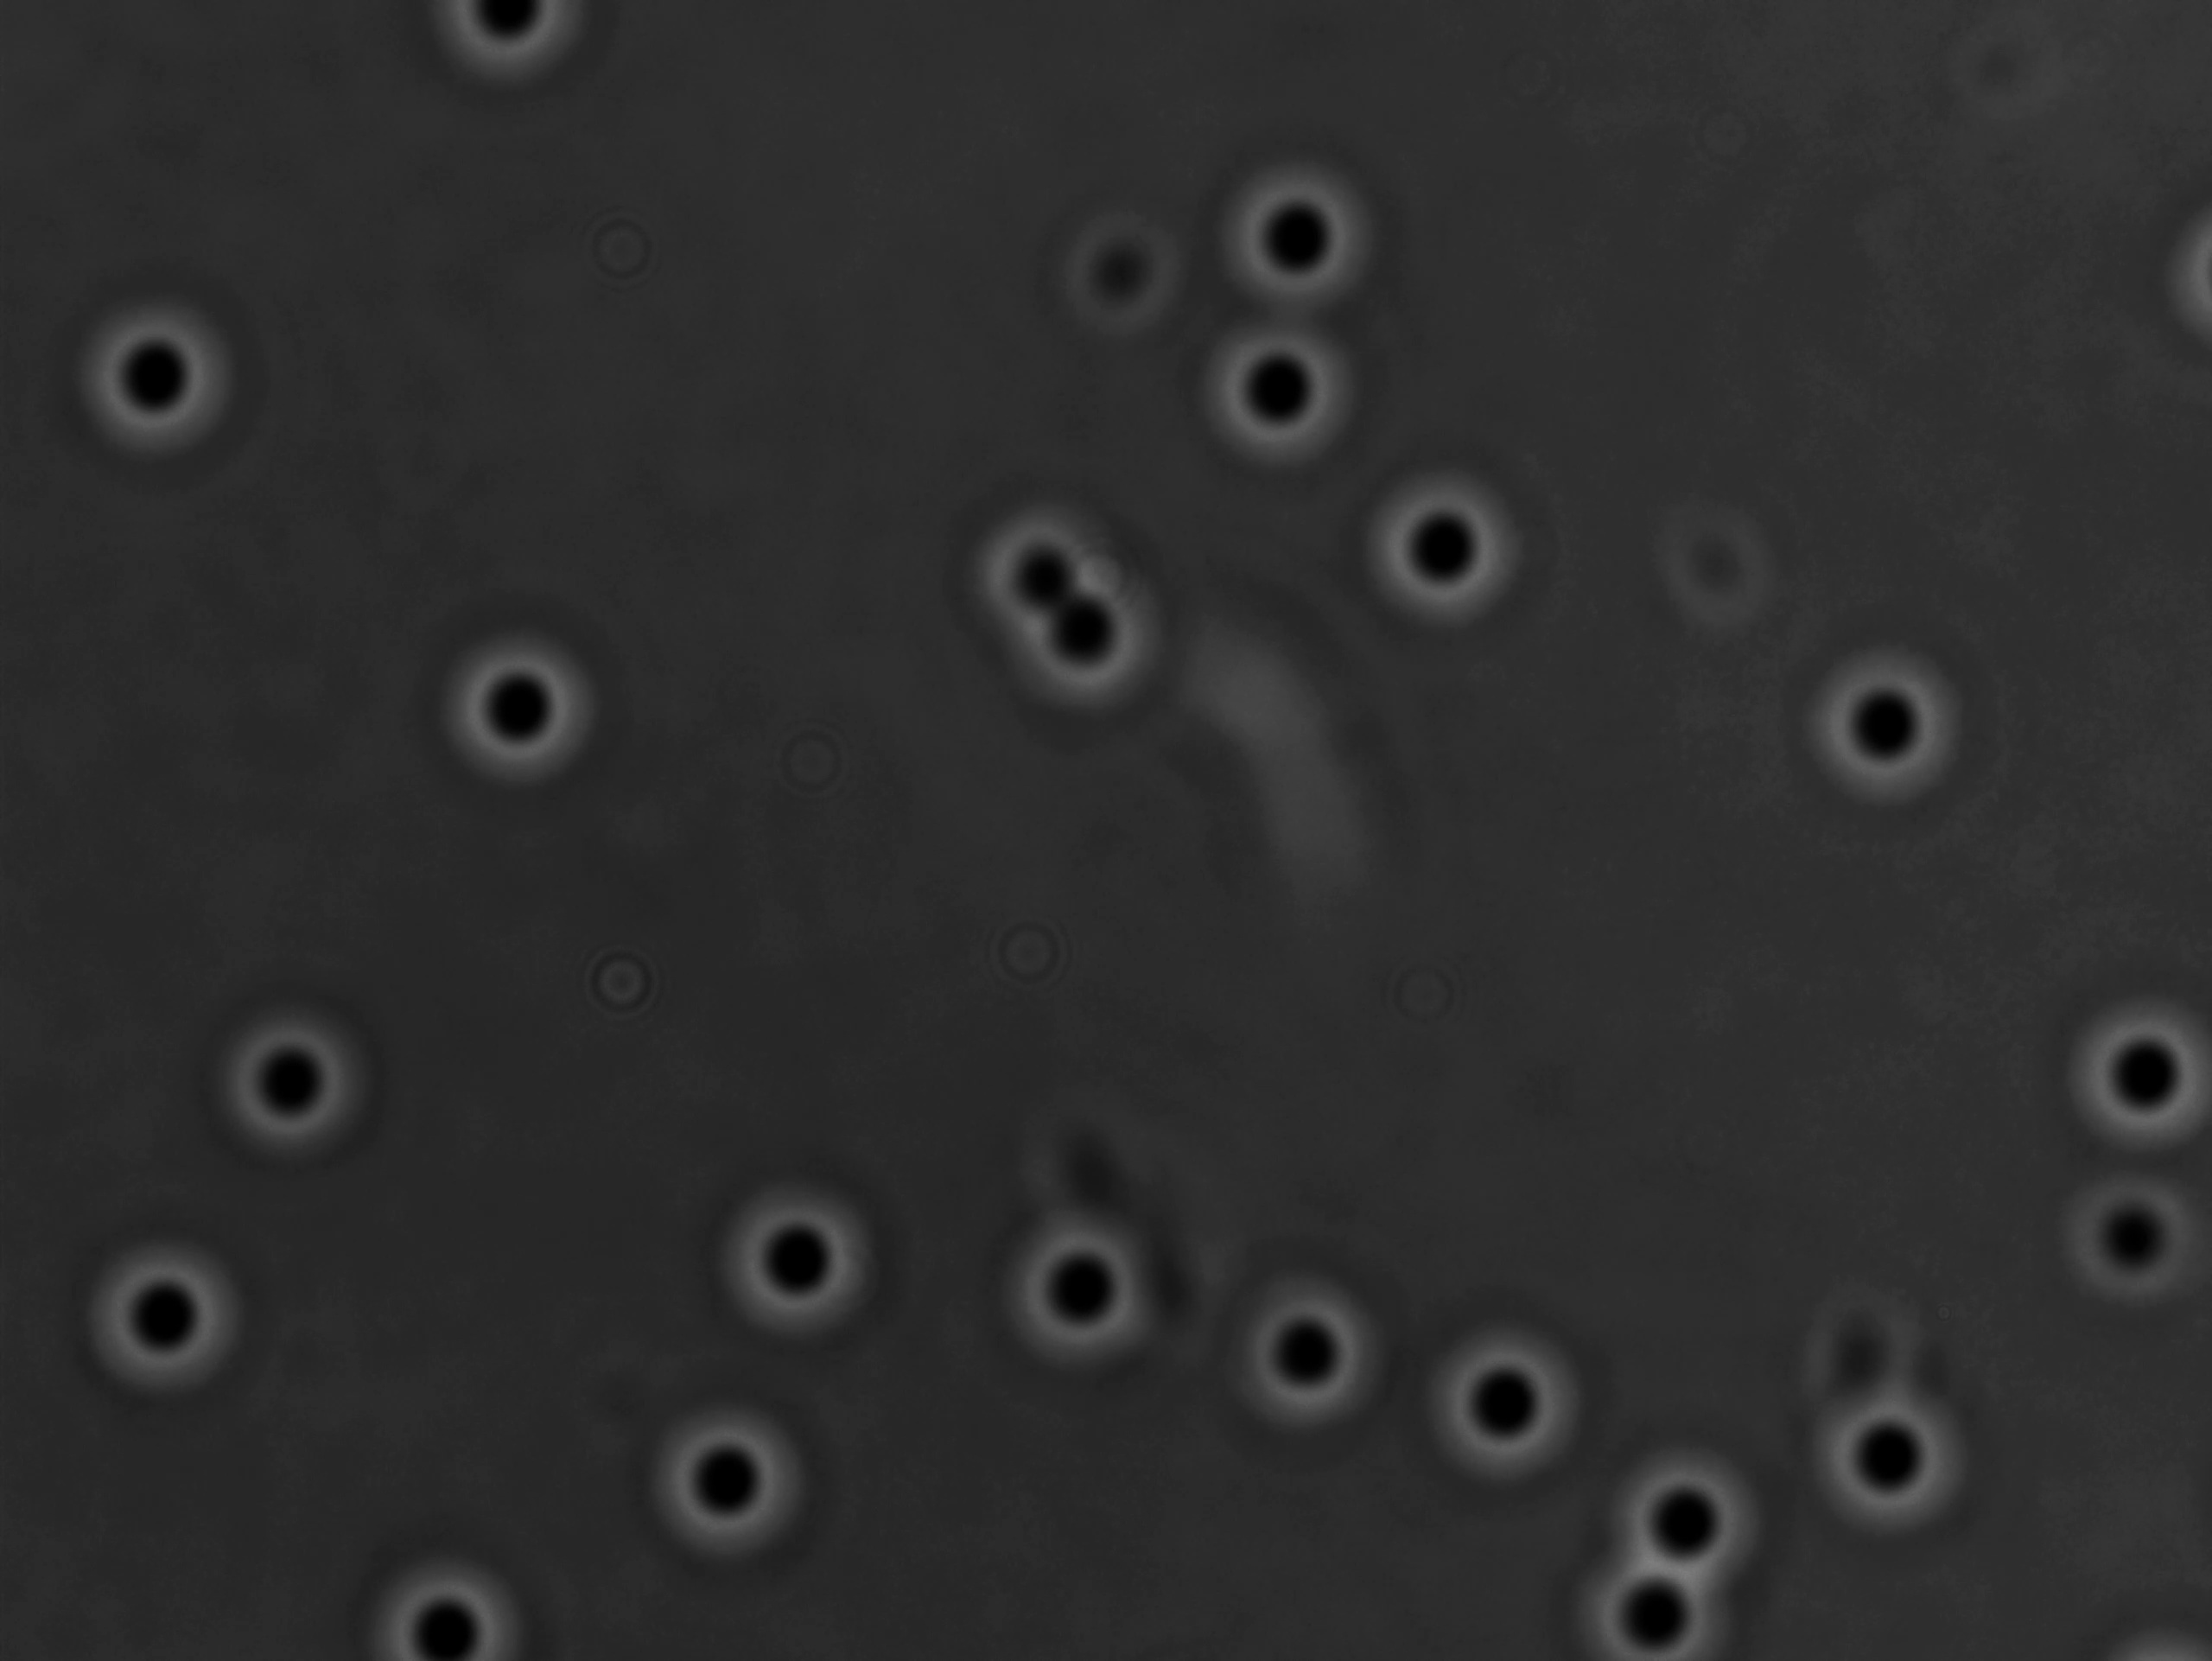depth:-80: (434, 611, 635, 808), (1342, 448, 1544, 639), (1792, 632, 1985, 822), (1586, 1424, 1792, 1602), (82, 1230, 270, 1420), (68, 277, 249, 471), (1190, 297, 1383, 478), (1797, 1354, 1973, 1553), (717, 1169, 902, 1356), (996, 539, 1181, 726), (1003, 1197, 1179, 1392), (1413, 1323, 1605, 1500), (966, 478, 1153, 658), (1198, 143, 1387, 319), (197, 995, 375, 1178), (2045, 1148, 2212, 1338), (635, 1403, 820, 1574), (2045, 979, 2212, 1167), (1219, 1267, 1397, 1441), (1556, 1523, 1753, 1661), (354, 1563, 551, 1661)
